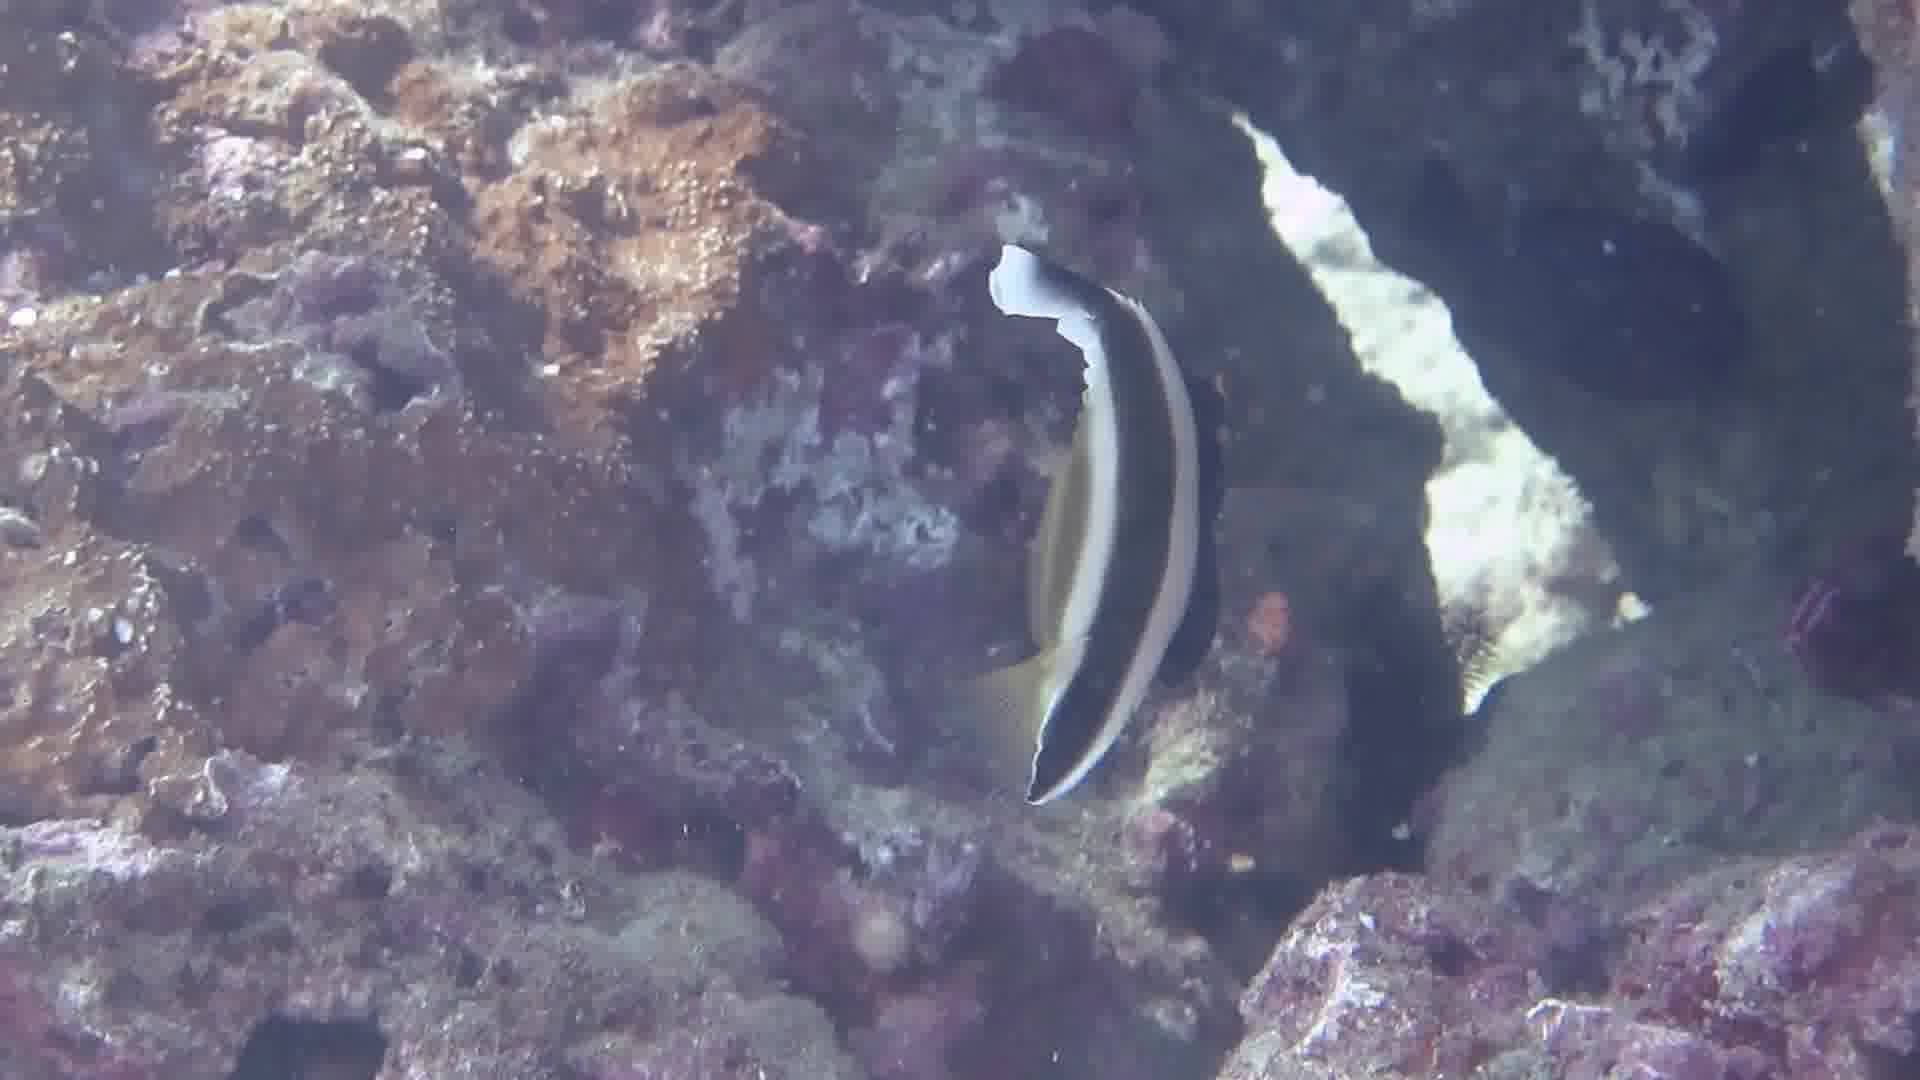Heniochus chrysostomus: (787, 219, 1432, 808)
